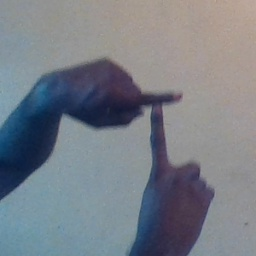T: (111, 69, 201, 182)
